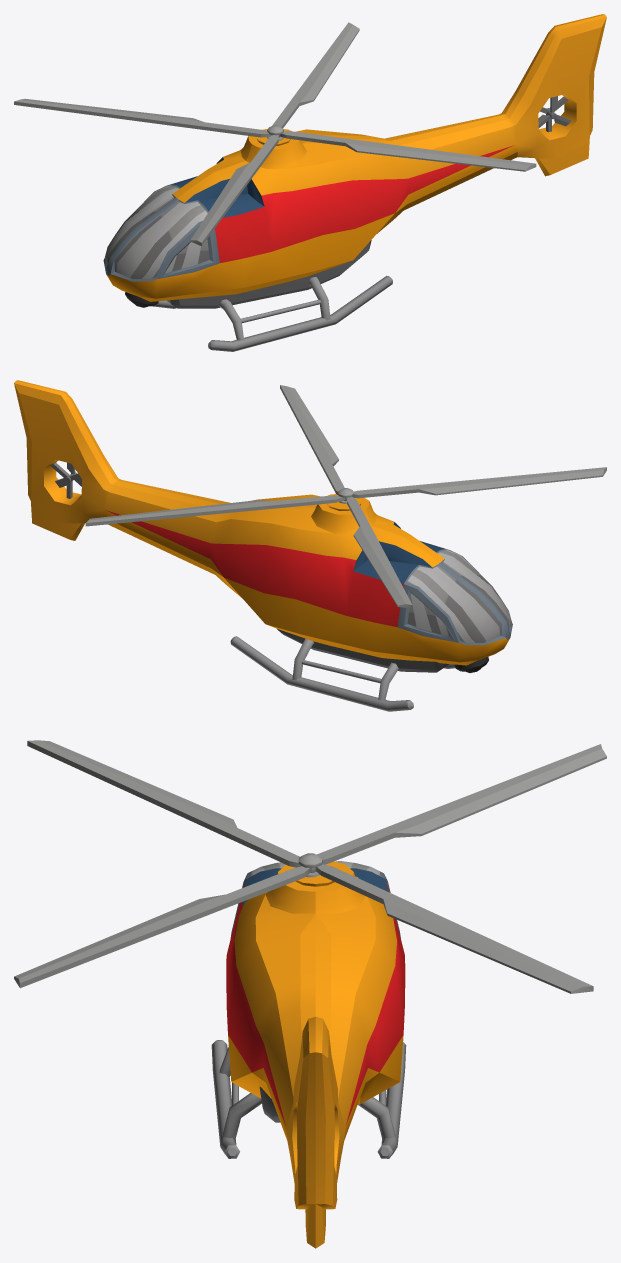
File: Helicopter_1_B.fbx
The picture shows the model from 3 angles, top to bottom: view 1: azimuth 30°, elevation 25°; view 2: azimuth 150°, elevation 25°; view 3: azimuth 270°, elevation 25°; orthographic projection. The views are drawn at different scales.
Visible parts, largest first — view 1: Helicopter_1_B, Rotator_main, Rotator_Back; view 2: Helicopter_1_B, Rotator_main, Rotator_Back; view 3: Helicopter_1_B, Rotator_main.
Part boxes in pixels (x1=…): Helicopter_1_B: x1=103, y1=14, x2=606, y2=351; Rotator_main: x1=14, y1=22, x2=536, y2=245; Rotator_Back: x1=538, y1=96, x2=571, y2=132; Helicopter_1_B: x1=14, y1=380, x2=512, y2=711; Rotator_main: x1=85, y1=385, x2=606, y2=608; Rotator_Back: x1=51, y1=462, x2=81, y2=498; Helicopter_1_B: x1=211, y1=861, x2=406, y2=1248; Rotator_main: x1=14, y1=740, x2=606, y2=993.
Size of the model in its own units: 1055 by 429 by 719.
